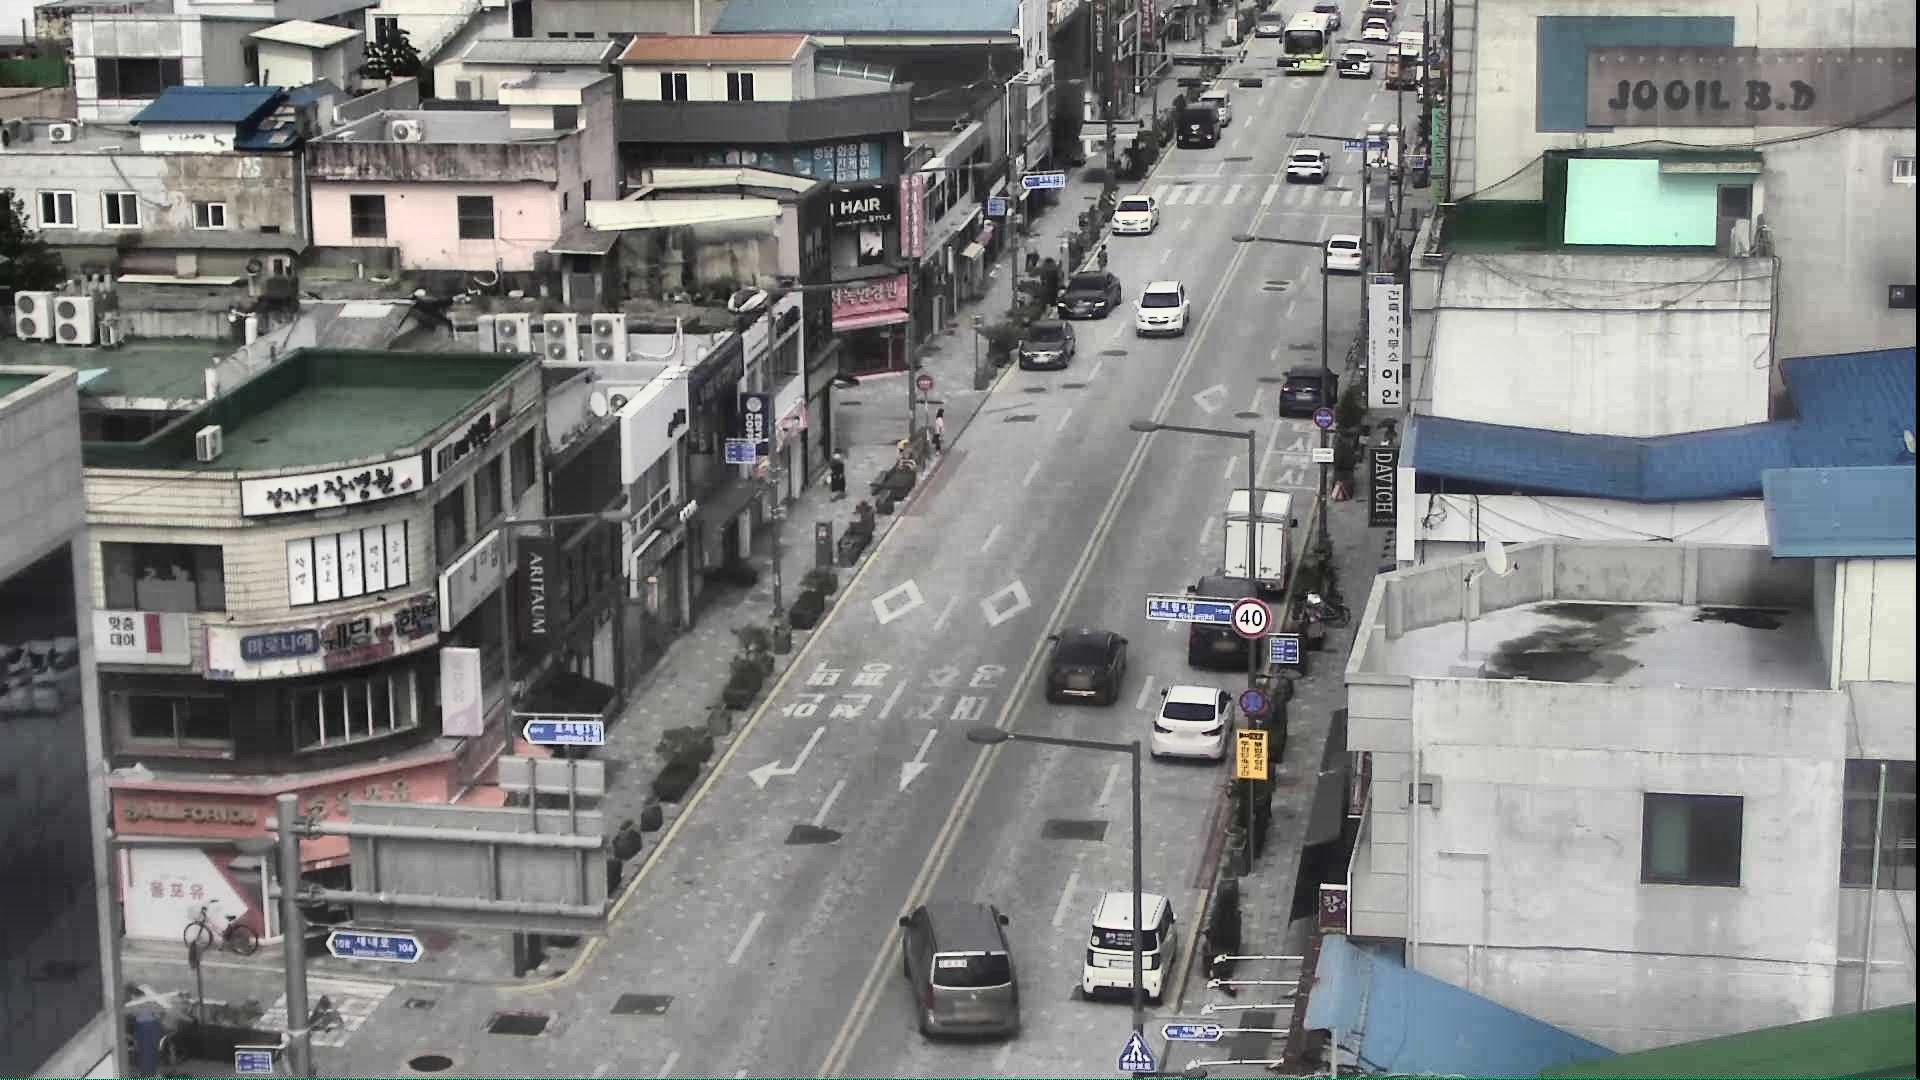jaywalk: (1095, 243, 1112, 282)
sidewalk: (825, 443, 851, 504), (930, 406, 948, 455), (1023, 229, 1040, 276)
